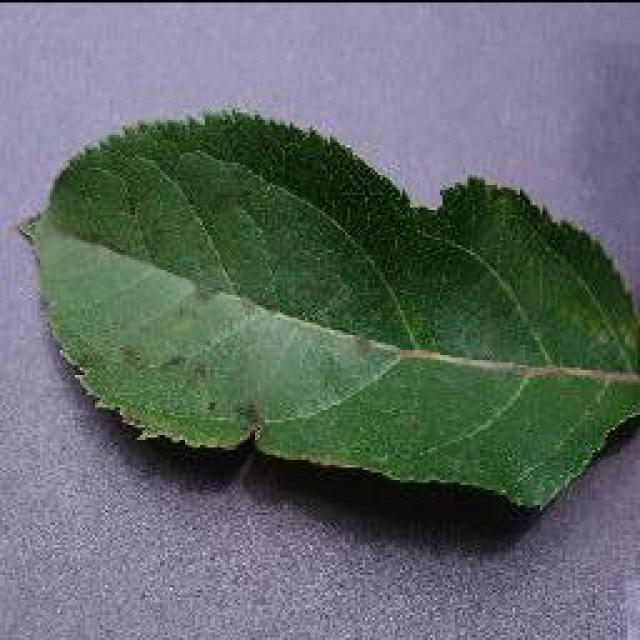apple scab disease: (15, 102, 637, 528)
